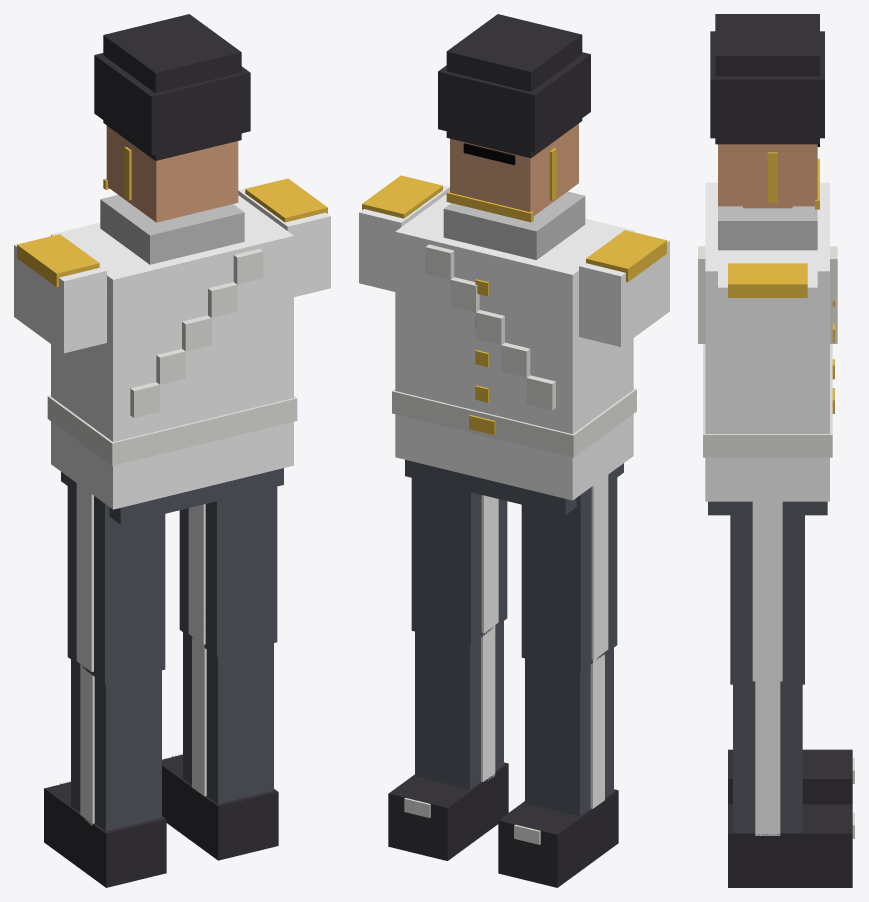
The model's file is GUARD.gltf.
3 renders of one model, left to right at view 1: azimuth 30°, elevation 25°; view 2: azimuth 150°, elevation 25°; view 3: azimuth 270°, elevation 25°, orthographic. The views are drawn at different scales.
Parts seen in each view (by area): view 1: GUARD; view 2: GUARD; view 3: GUARD.
Boxes of the visible parts, x1=… form: GUARD: x1=14, y1=14, x2=330, y2=887; GUARD: x1=359, y1=14, x2=669, y2=887; GUARD: x1=698, y1=14, x2=854, y2=887.
Bounding box in the file's own units: 0.63 × 1.79 × 0.315.
